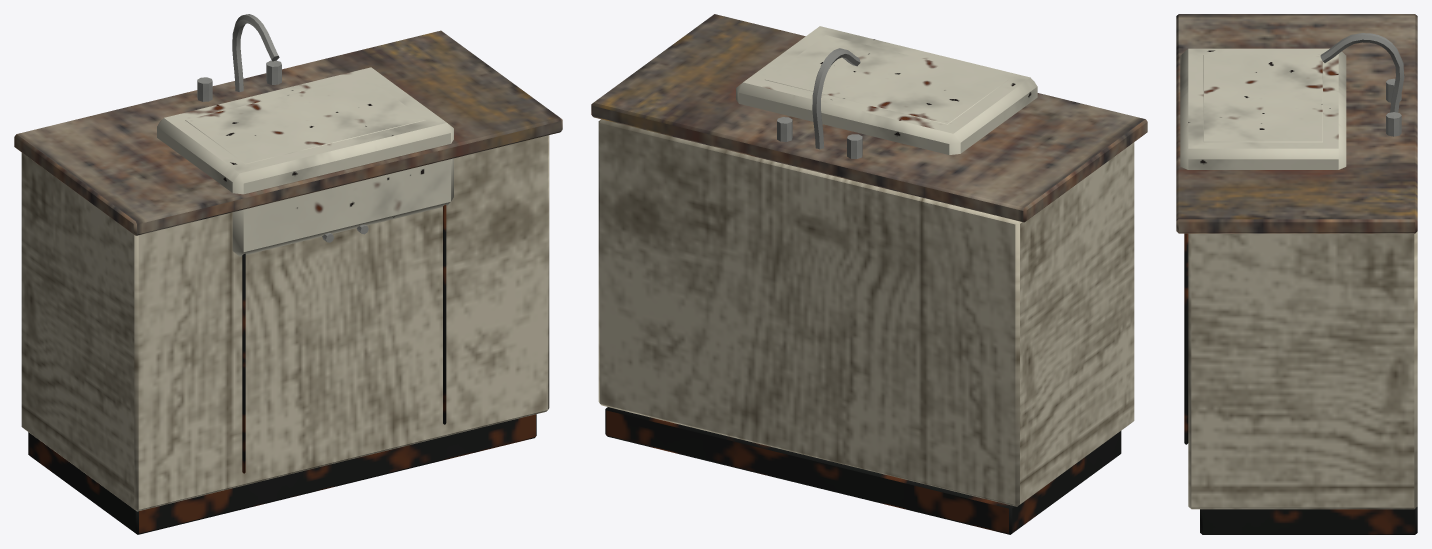
The model's file is SinkUnit.fbx.
3 renders of one model, left to right at view 1: azimuth 30°, elevation 25°; view 2: azimuth 150°, elevation 25°; view 3: azimuth 270°, elevation 25°, orthographic. The views are drawn at different scales.
Parts seen in each view (by area): view 1: SinkUnit; view 2: SinkUnit; view 3: SinkUnit.
Boxes of the visible parts, bbox=[...] form: SinkUnit: bbox=[14, 14, 562, 534]; SinkUnit: bbox=[591, 14, 1147, 534]; SinkUnit: bbox=[1176, 14, 1417, 534].
Bounding box in the file's own units: 1.24 × 1.13 × 0.61.
